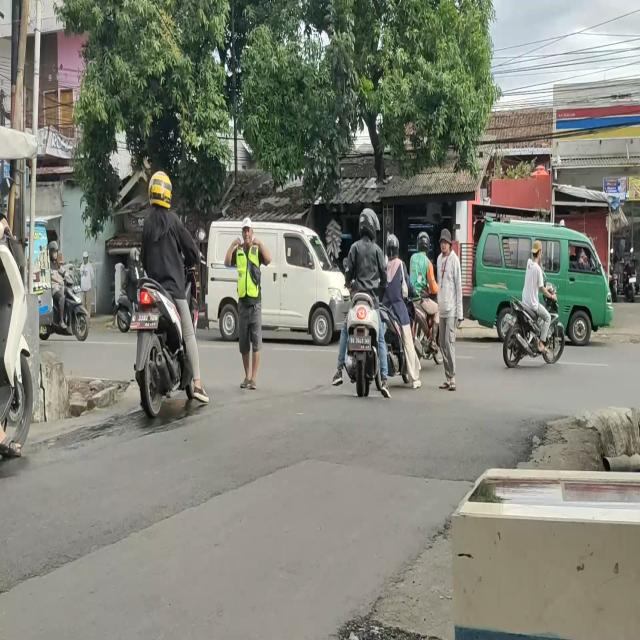helmet: (148, 174, 171, 207), (359, 210, 379, 242), (386, 230, 398, 258), (417, 234, 431, 254), (127, 246, 139, 266), (50, 242, 57, 261)
no-helmet: (530, 242, 542, 266)
